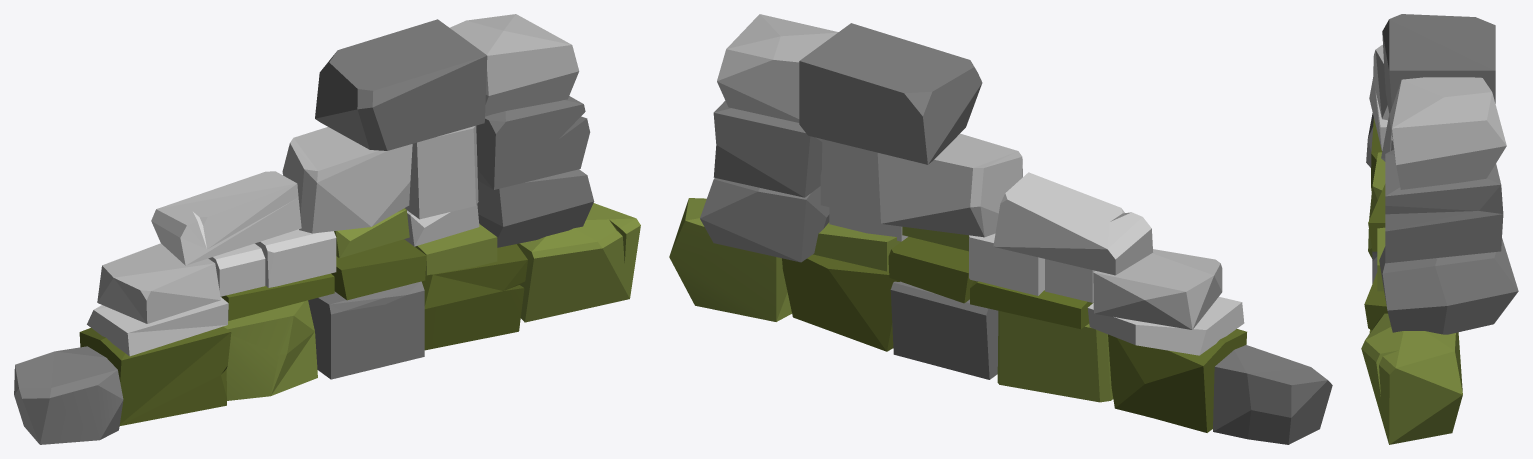
File: EA03_Fence_Cobble_01a.glb
3 renders of one model, left to right at view 1: azimuth 30°, elevation 25°; view 2: azimuth 150°, elevation 25°; view 3: azimuth 270°, elevation 25°, orthographic. The views are drawn at different scales.
Parts seen in each view (by area): view 1: EA03_Fence_Cobble_01a; view 2: EA03_Fence_Cobble_01a; view 3: EA03_Fence_Cobble_01a.
Part boxes in pixels (bbox=[...]): EA03_Fence_Cobble_01a: bbox=[14, 14, 640, 444]; EA03_Fence_Cobble_01a: bbox=[669, 14, 1332, 444]; EA03_Fence_Cobble_01a: bbox=[1361, 14, 1518, 444].
Size of the model in its own units: 3.79 by 1.64 by 0.7795.
Materials: 1 (1 with a texture image).
